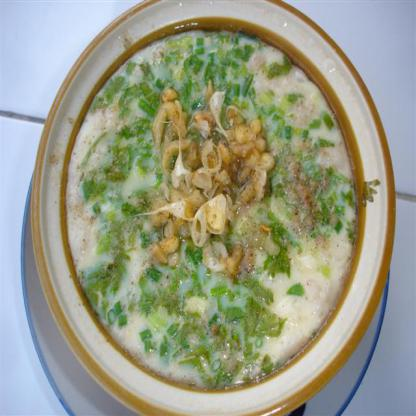Joke: (59, 18, 379, 396)
